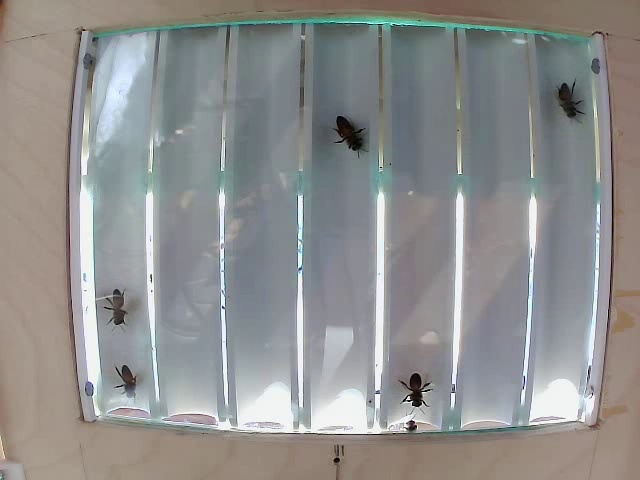bee: (330, 114, 368, 166), (397, 374, 437, 414), (102, 293, 135, 336), (109, 373, 143, 402), (558, 68, 578, 114)
